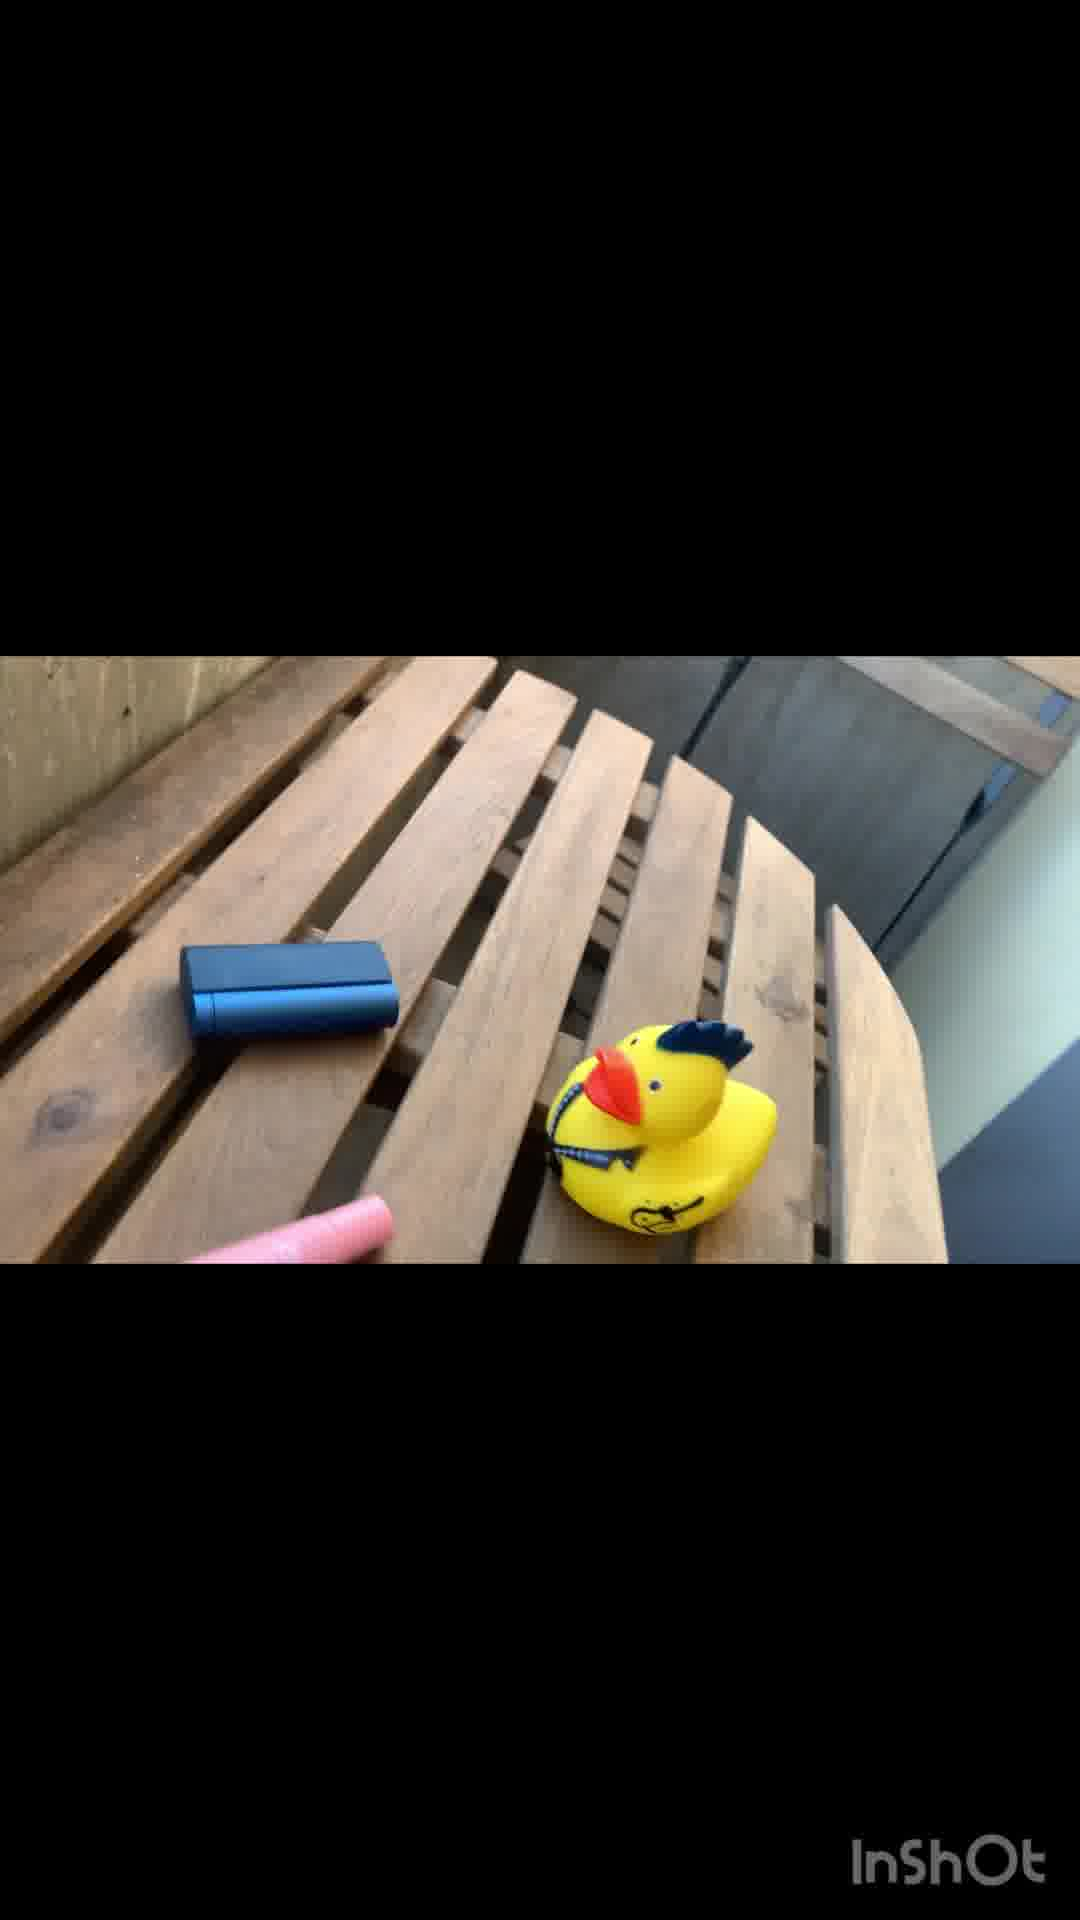duck: (533, 1015, 769, 1232)
glo: (167, 942, 410, 1046)
lip balm: (171, 1195, 400, 1259)
